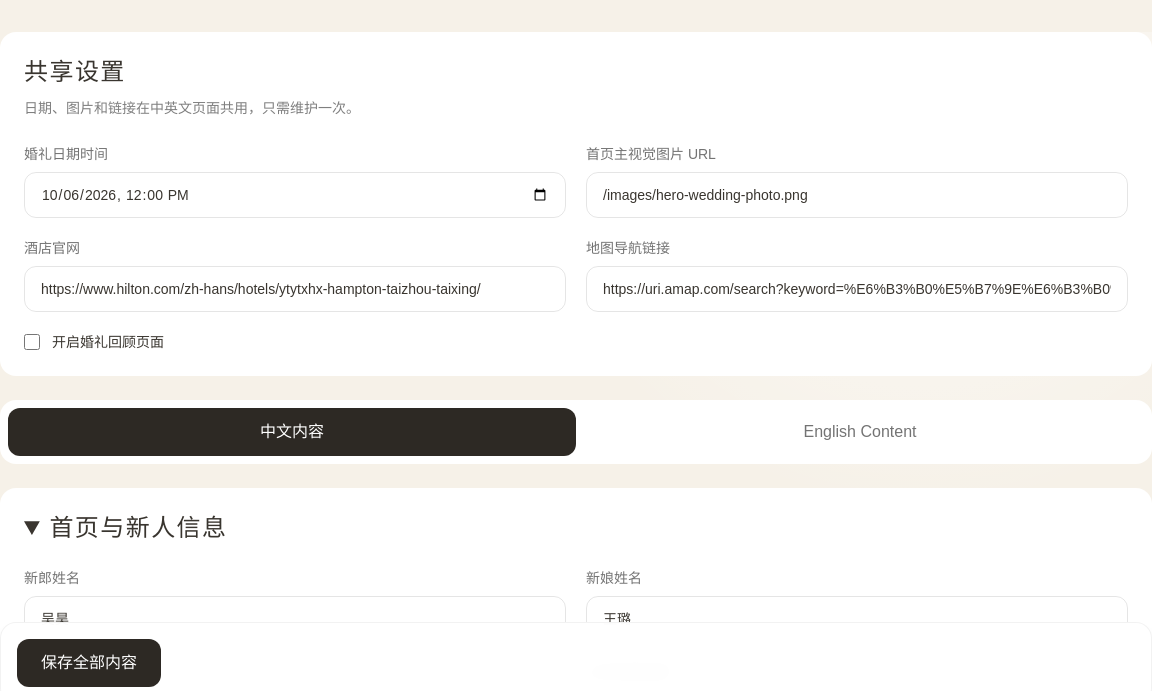
Test case: SettingsForm › edits English content and saves localized and shared settings
Click the tab "English Content": (860, 432) 576,408 -> 1144,456
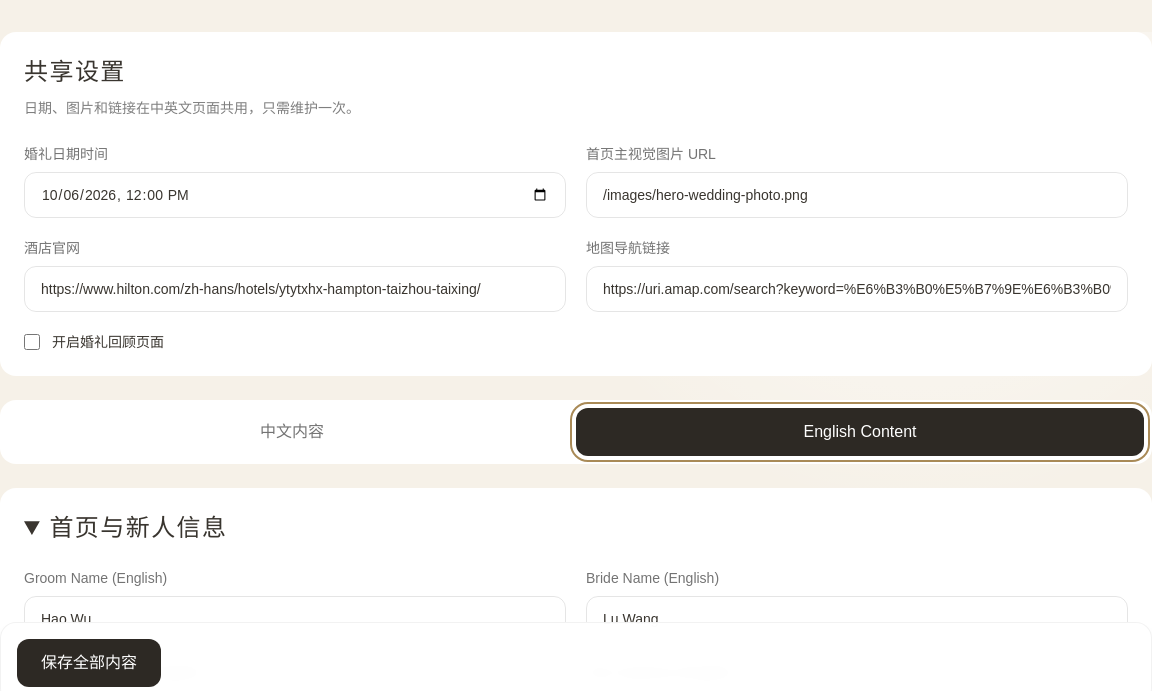
Replace the text in the field labelled "Groom Name (English)" with "Howard Wu": (295, 619) 24,596 -> 566,642
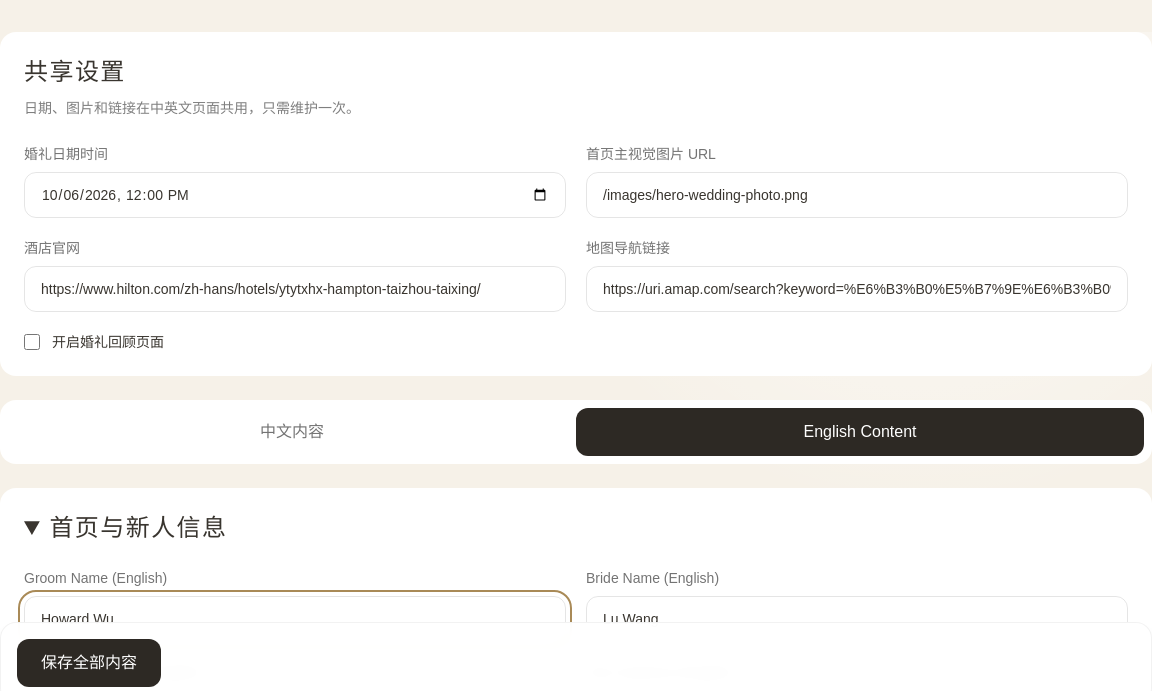
Click the button "保存全部内容": (89, 663) 17,639 -> 161,687
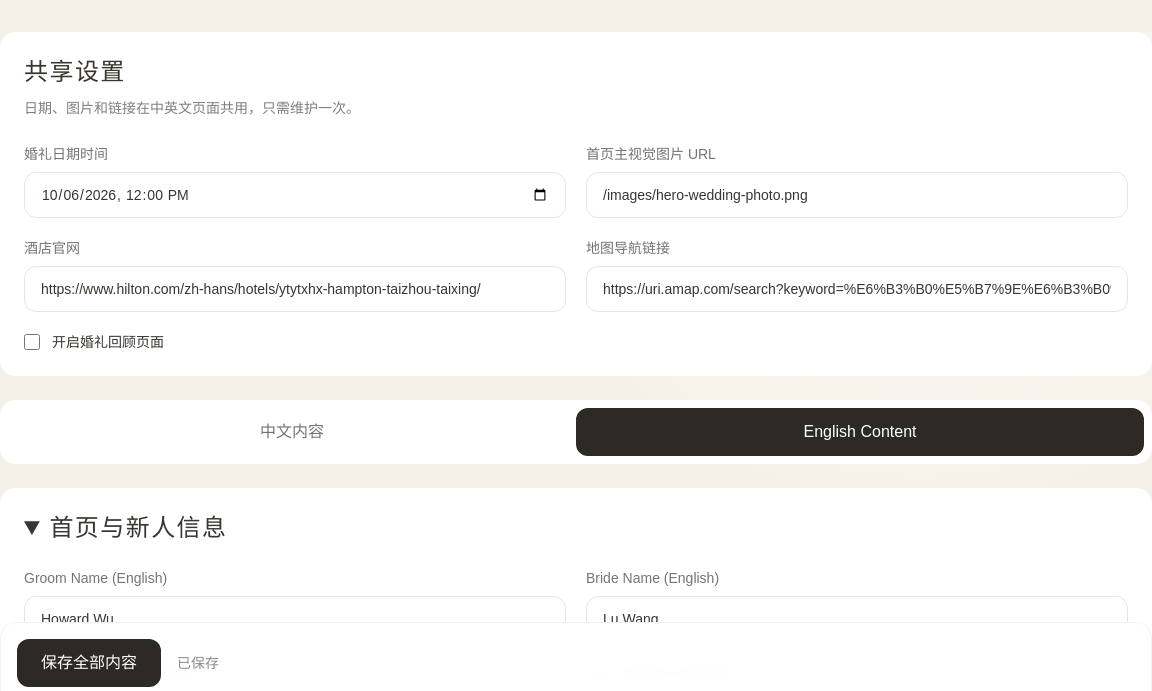
Check: the text "已保存" is shown, box 177,653 -> 219,673
